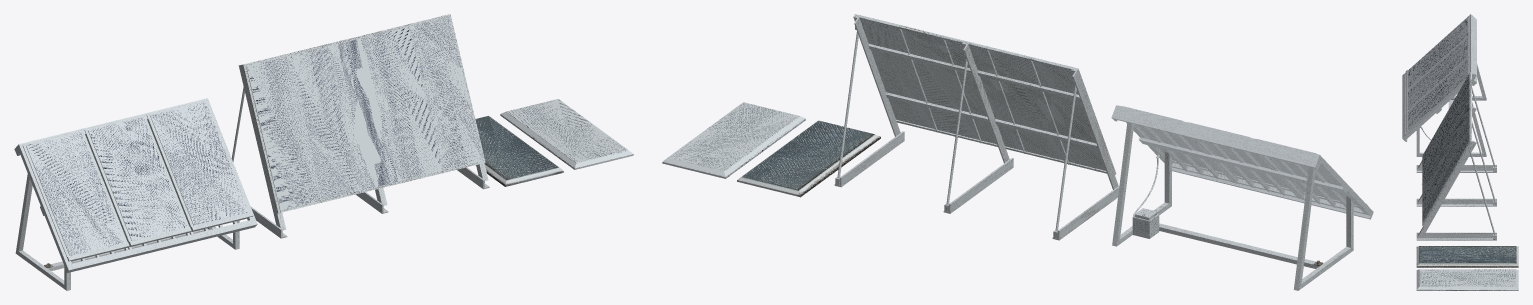
File: solar2.gltf
The picture shows the model from 3 angles, left to right: view 1: azimuth 30°, elevation 25°; view 2: azimuth 150°, elevation 25°; view 3: azimuth 270°, elevation 25°; orthographic projection. The views are drawn at different scales.
Parts seen in each view (by area): view 1: group_28.001, group_28.007, group_28.004, group_53.001, group_51.001, group_57.001, group_59.001, group_61.001, group_65, group_0, group_12, group_2 (+13 smaller); view 2: group_65, group_0, group_61.002, group_59.002, group_51.002, group_53.002, group_57.002, group_2, group_3, group_14, group_18, group_8 (+22 smaller); view 3: group_0, group_65, group_28.001, group_28.004, group_28.007, group_51.001, group_61.001, group_53.001, group_59.001, group_57.001, group_41, group_42 (+21 smaller).
Boxes of the visible parts, bbox=[...] form: group_28.001: bbox=[26, 132, 124, 255]; group_28.007: bbox=[150, 102, 248, 225]; group_28.004: bbox=[88, 117, 186, 240]; group_53.001: bbox=[247, 56, 320, 209]; group_51.001: bbox=[409, 17, 483, 170]; group_57.001: bbox=[328, 36, 401, 190]; group_59.001: bbox=[369, 27, 442, 180]; group_61.001: bbox=[287, 46, 361, 199]; group_65: bbox=[500, 99, 633, 169]; group_0: bbox=[475, 116, 563, 186]; group_12: bbox=[72, 220, 252, 270]; group_2: bbox=[15, 173, 70, 290]; group_65: bbox=[662, 102, 805, 178]; group_0: bbox=[737, 120, 880, 197]; group_61.002: bbox=[989, 50, 1065, 160]; group_59.002: bbox=[901, 29, 978, 139]; group_51.002: bbox=[860, 19, 935, 128]; group_53.002: bbox=[1033, 61, 1105, 170]; group_57.002: bbox=[945, 40, 1022, 150]; group_2: bbox=[1293, 167, 1353, 290]; group_3: bbox=[1112, 122, 1171, 246]; group_14: bbox=[1111, 113, 1317, 168]; group_18: bbox=[1139, 137, 1347, 193]; group_8: bbox=[1159, 223, 1319, 268]; group_0: bbox=[1416, 246, 1518, 267]; group_65: bbox=[1416, 269, 1518, 290]; group_28.001: bbox=[1408, 17, 1468, 88]; group_28.004: bbox=[1408, 38, 1468, 109]; group_28.007: bbox=[1408, 58, 1468, 130]; group_51.001: bbox=[1422, 128, 1469, 222]; group_61.001: bbox=[1422, 88, 1469, 181]; group_53.001: bbox=[1422, 74, 1469, 168]; group_59.001: bbox=[1422, 115, 1469, 208]; group_57.001: bbox=[1422, 101, 1469, 195]; group_41: bbox=[1416, 232, 1496, 240]; group_42: bbox=[1418, 140, 1476, 236].
Size of the model in its own units: 6.04 by 1.49 by 1.54.
21 materials, 19 textured.
